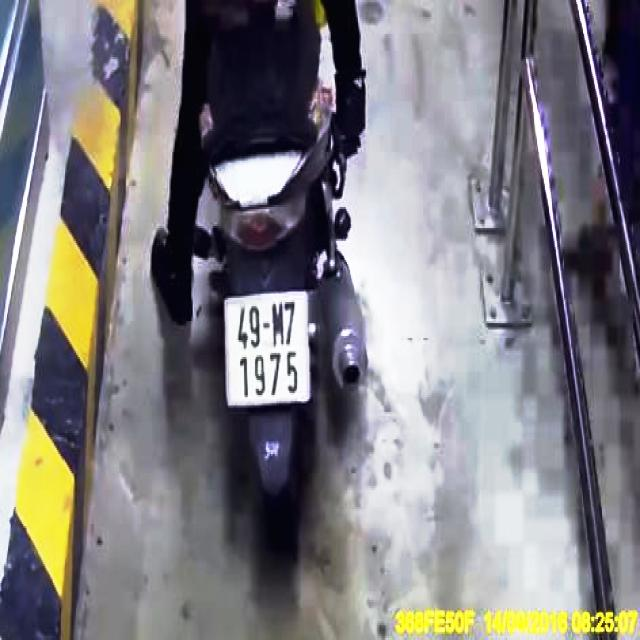license_plate: (228, 294, 311, 406)
